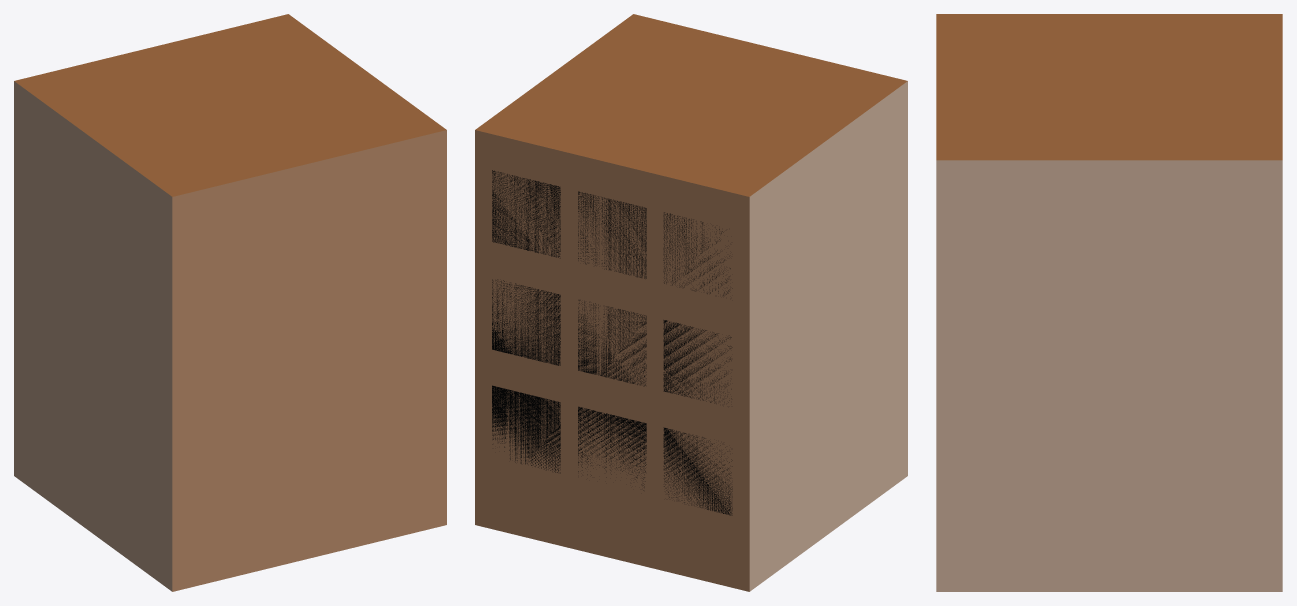
File: offi.obj
3 renders of one model, left to right at view 1: azimuth 30°, elevation 25°; view 2: azimuth 150°, elevation 25°; view 3: azimuth 270°, elevation 25°, orthographic. The views are drawn at different scales.
Size of the model in its own units: 400 by 550 by 400.
